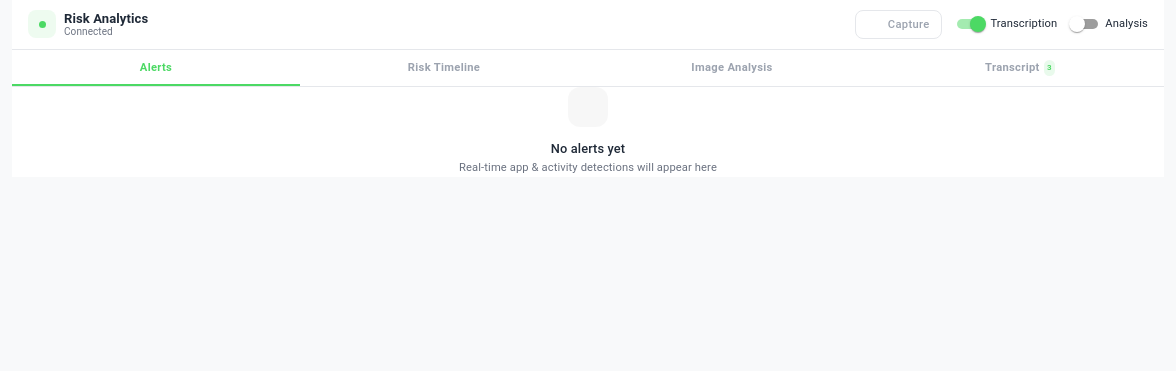
Test: AnalyticsPanel › Transcript tab renders grouped interviewer/candidate bubbles + typing indicator
The image size is (1176, 371).
Click the tab "Transcript 3". click: [1020, 68]
box: [876, 50, 1164, 86]
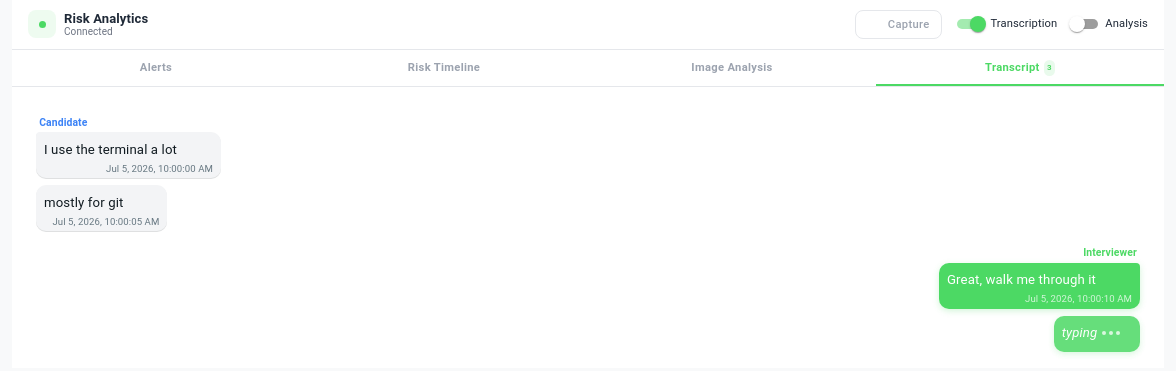
Expected: the text "Candidate" is shown, [36, 115, 91, 130]
Expected: the text "Interviewer" is shown, [1080, 245, 1140, 261]
Expected: the text "I use the terminal a lot" is shown, [44, 142, 177, 157]
